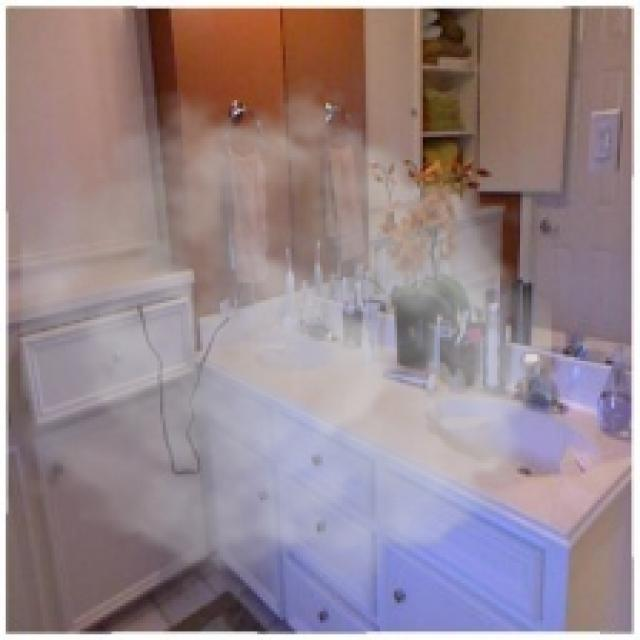smoke: (20, 71, 551, 612)
